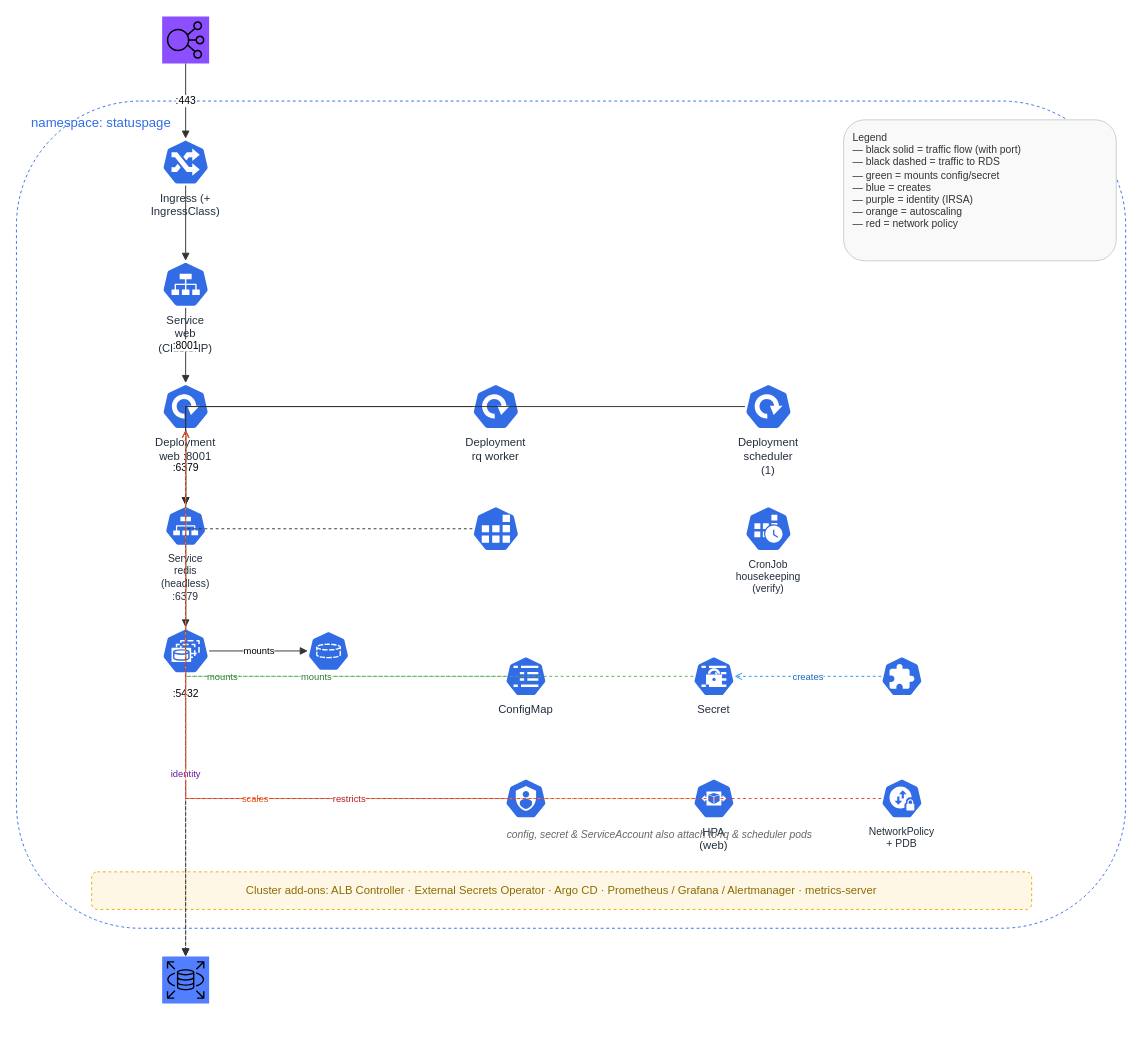
Some shapes in this 1142 by 1039 pixel diagram are drawn without their labels. Here are the shapes that lost their labels. From the top down, the centre of each, then its label:
(x=185, y=39): ALB (from AWS) :443
(x=495, y=528): Job migrate (Helm hook)
(x=185, y=650): StatefulSet redis
(x=328, y=650): PVC redis
(x=901, y=676): ExternalSecret
(x=525, y=798): ServiceAccount (IRSA)
(x=185, y=979): RDS PostgreSQL (AWS) :5432 · outside cluster
